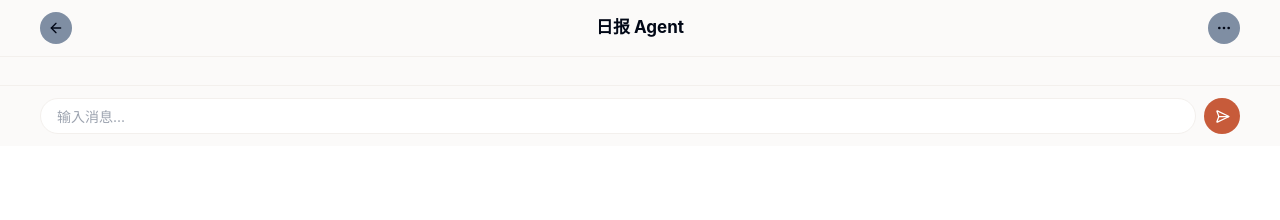
Test: agent conversation runtime issue-385（运行时对话页 typed event 渲染） › shows send failure when runtime stream throws（发送失败时展示错误）
Step 1. Type "第一条消息" into the field with test id "agent-chat-input" → (618, 116), box left=40, top=98, right=1196, bottom=134
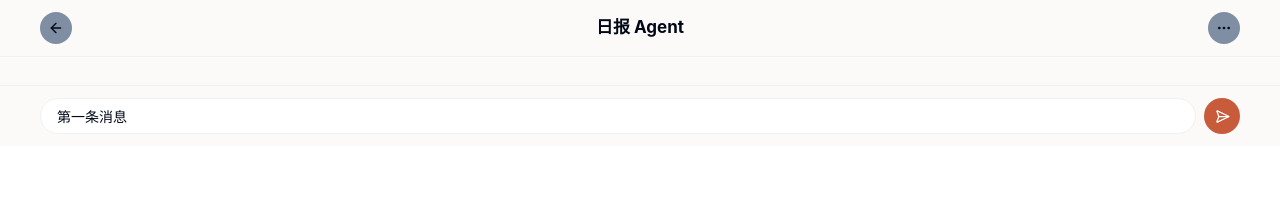
Step 2. Click the button with test id "agent-chat-send-button" → click(1222, 116), box left=1204, top=98, right=1240, bottom=134
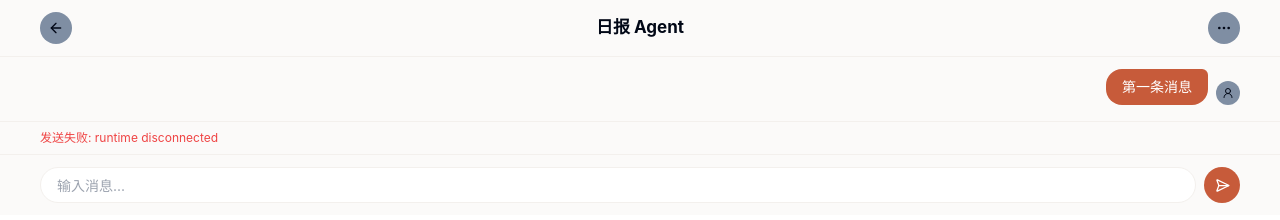
expect the text "发送失败: runtime disconnected" is shown: met, box left=0, top=121, right=1279, bottom=154
